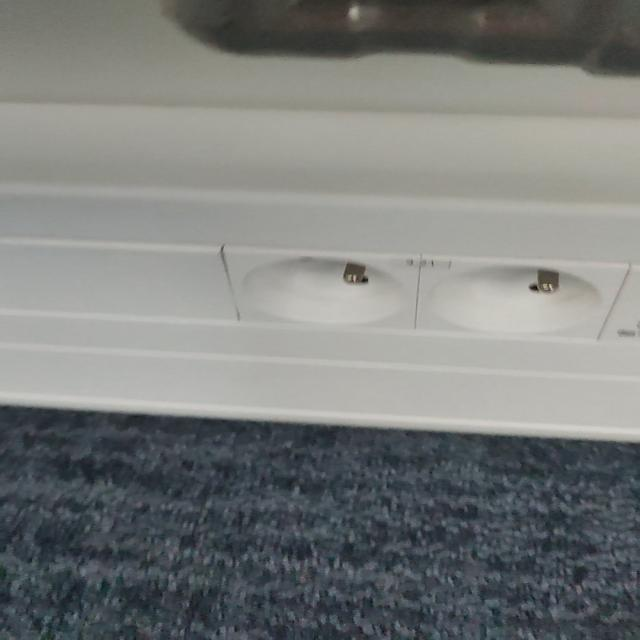house plug: (412, 256, 631, 343), (225, 251, 419, 329)
